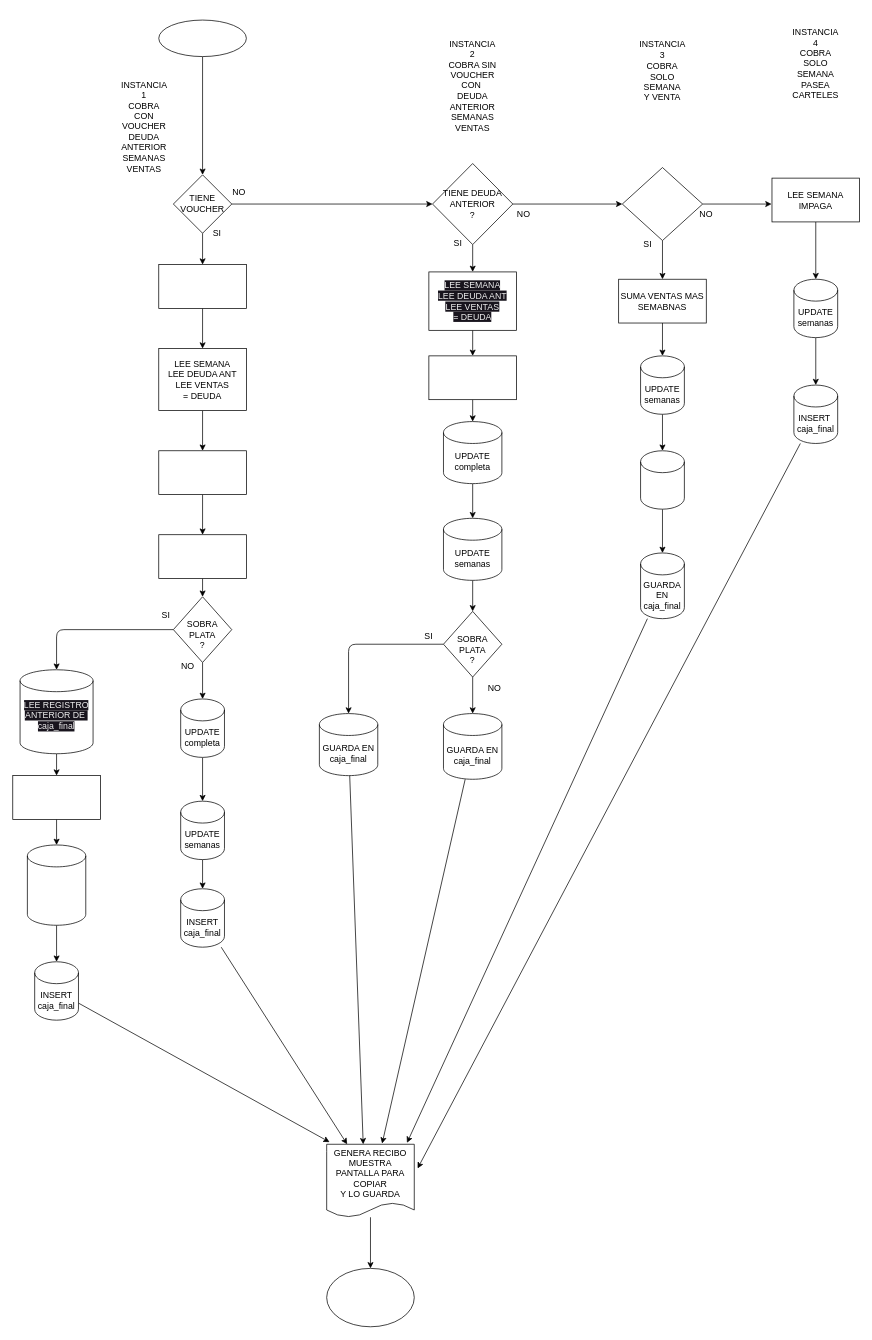
The diagram is 872 pixels wide and 1340 high, and some of its shapes have lost their labels. Here are the shapes that lost their labels. From the top down, the centre of each, then its label:
point 202,38: INICIO
point 662,204: TIENE VANTAS ?
point 202,286: CALCULA 90% CALCULA 10%
point 472,377: CALCULA CON EL FT QUE ENTRA
point 202,472: CALCULA VOUCHER - DEUDA
point 662,479: UPDATE competa
point 202,556: CALCULA VUELTO
point 56,797: CALCULA CUANTO VA A GUARDAR
point 56,884: ELIMINA REGISTRO ANTERIOR DE caja_final
point 370,1297: MOVIL A COBRAR
